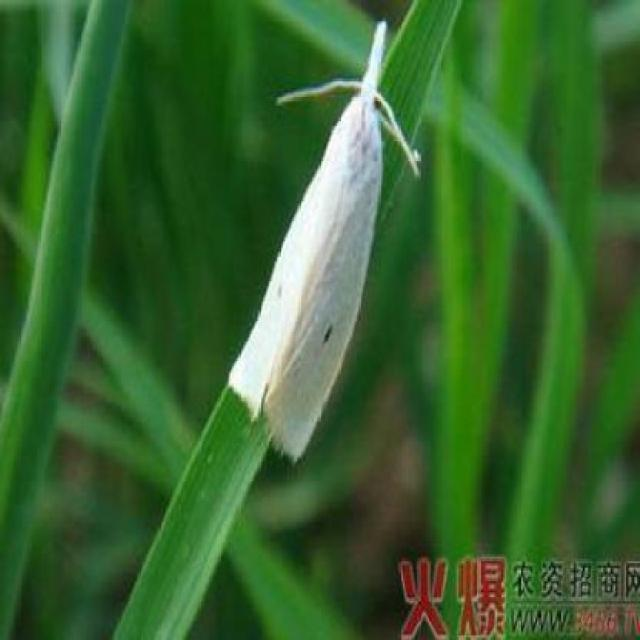stem-borer: (228, 17, 422, 465)
